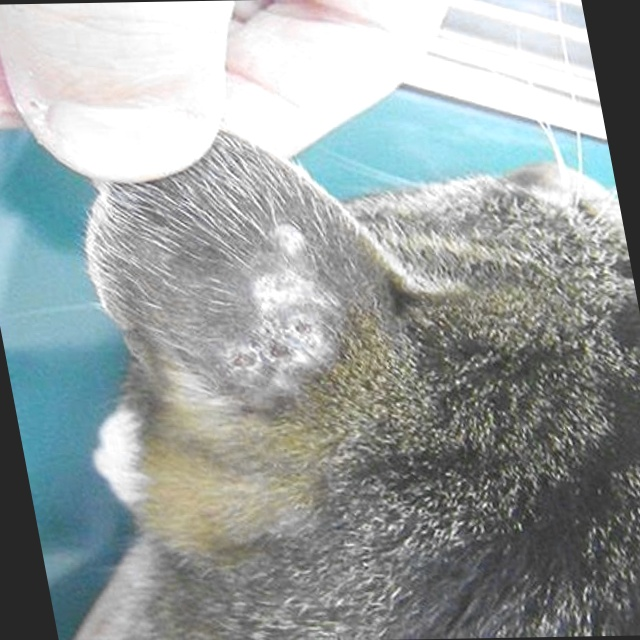ringworm: (201, 225, 356, 395)
